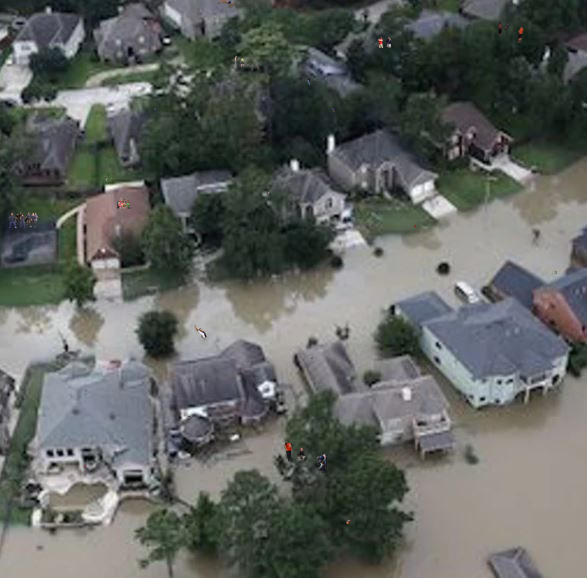Human: (498, 22, 524, 43), (8, 212, 39, 228), (283, 443, 306, 462), (234, 56, 259, 72), (313, 454, 329, 479), (194, 325, 210, 342), (117, 197, 136, 209), (214, 0, 236, 8), (378, 37, 392, 48), (104, 176, 131, 181), (346, 519, 351, 524), (307, 77, 310, 85), (84, 389, 87, 395), (332, 108, 335, 113), (152, 91, 154, 98), (525, 29, 528, 33), (4, 438, 7, 442), (154, 108, 156, 113), (247, 132, 249, 137), (311, 357, 313, 362), (188, 415, 190, 420), (268, 191, 270, 196), (84, 465, 86, 470), (484, 157, 487, 160), (414, 225, 417, 228), (298, 296, 301, 299), (554, 271, 557, 274)
